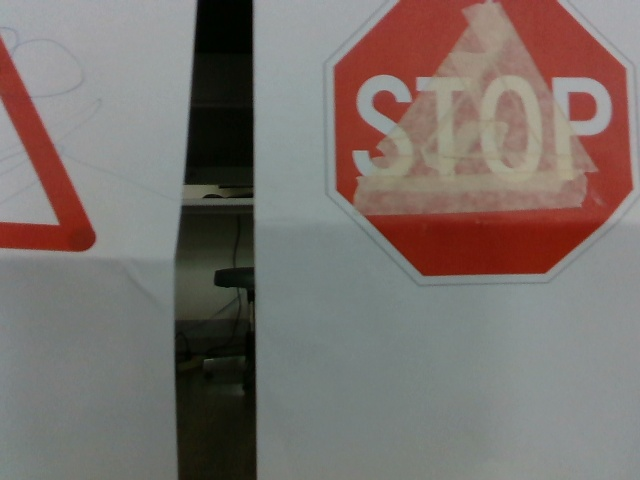stop: (326, 6, 640, 282)
